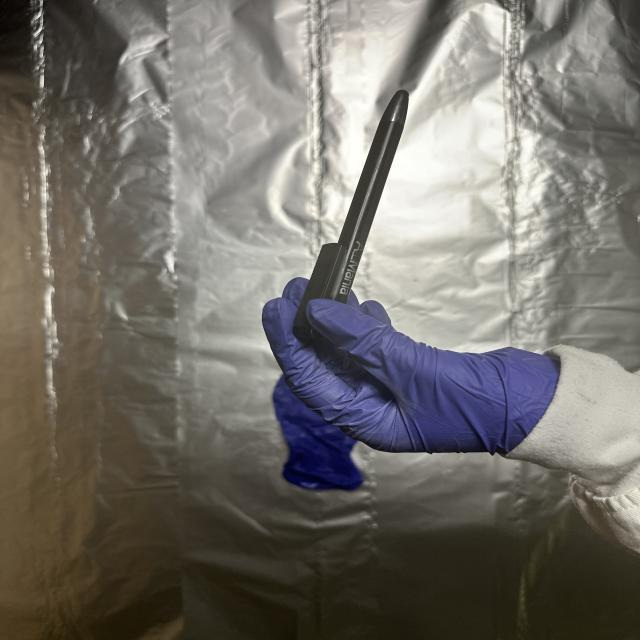gloves_contaminated: (255, 276, 560, 454)
